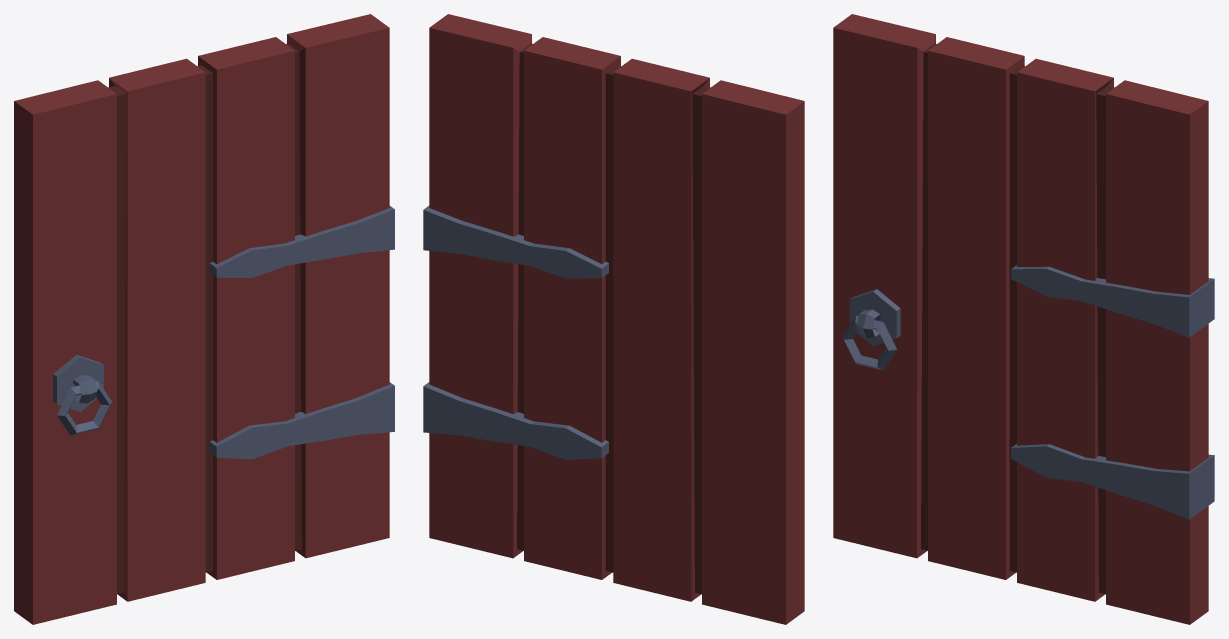
The model's file is door.gltf.
3 renders of one model, left to right at view 1: azimuth 30°, elevation 25°; view 2: azimuth 150°, elevation 25°; view 3: azimuth 330°, elevation 25°, orthographic.
Visible parts, largest first — view 1: door; view 2: door; view 3: door.
Boxes of the visible parts, box(x1,y1,x2,y2) form: door: box(14, 14, 394, 624); door: box(423, 14, 804, 624); door: box(833, 14, 1214, 624).
Bounding box in the file's own units: 2.09 × 2.85 × 0.3705.
